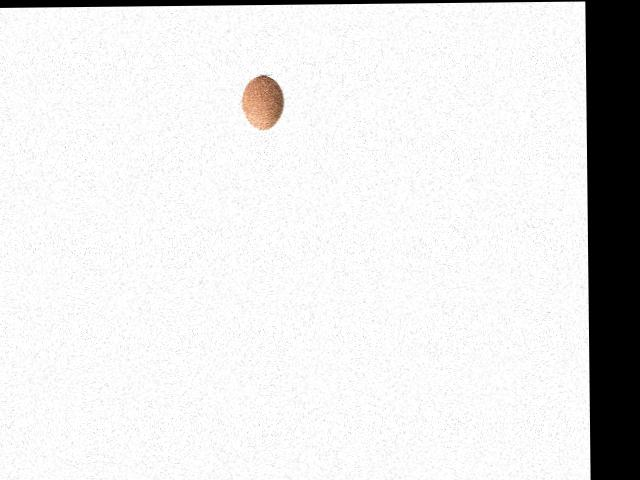egg: (242, 74, 284, 129)
